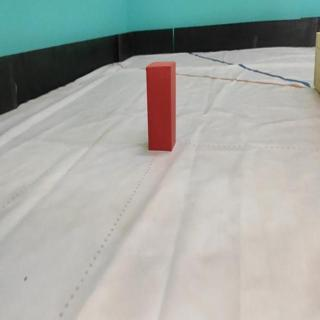redbox: (145, 60, 176, 152)
